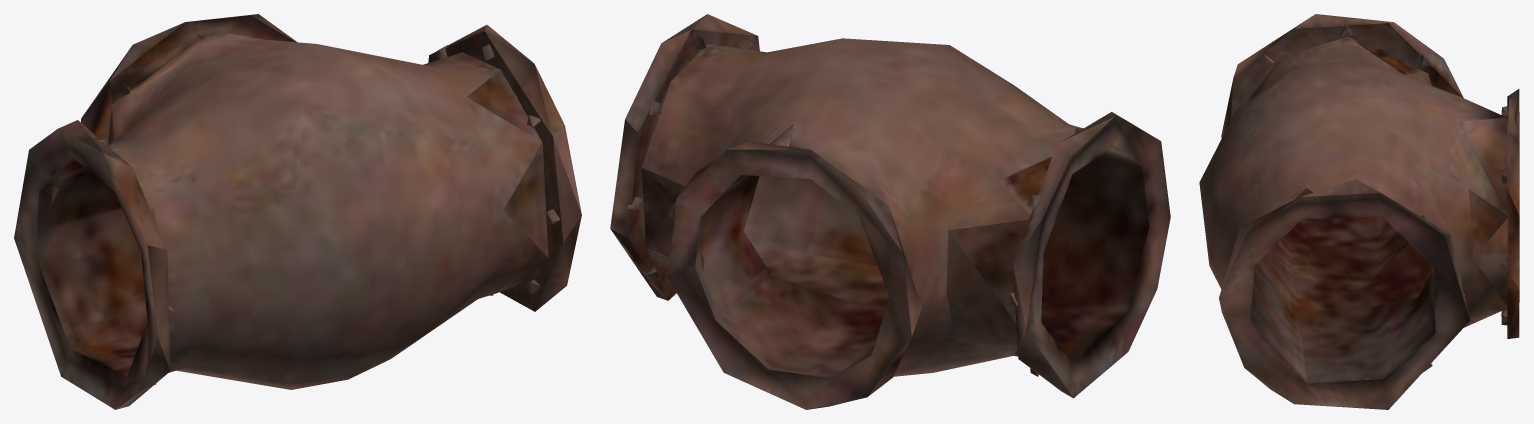
Rendered from rusty_pipe_08.glb.
3 views of the same model, side by side, from view 1: azimuth 30°, elevation 25°; view 2: azimuth 150°, elevation 25°; view 3: azimuth 270°, elevation 25° (orthographic). The views are drawn at different scales.
Parts seen in each view (by area): view 1: rusty_pipe_08; view 2: rusty_pipe_08; view 3: rusty_pipe_08.
Part boxes in pixels (<box>): rusty_pipe_08: <box>14,14,581,409</box>; rusty_pipe_08: <box>610,14,1170,409</box>; rusty_pipe_08: <box>1199,14,1519,409</box>.
Size of what is drawn, in the model's own units: 0.0483 by 0.0327 by 0.0368.
1 material, 1 textured.
